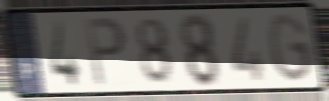4: (48, 17, 85, 90), (229, 14, 267, 83)
8: (178, 10, 222, 90), (133, 16, 175, 86)
G: (266, 10, 316, 86)
P: (83, 15, 129, 90)
